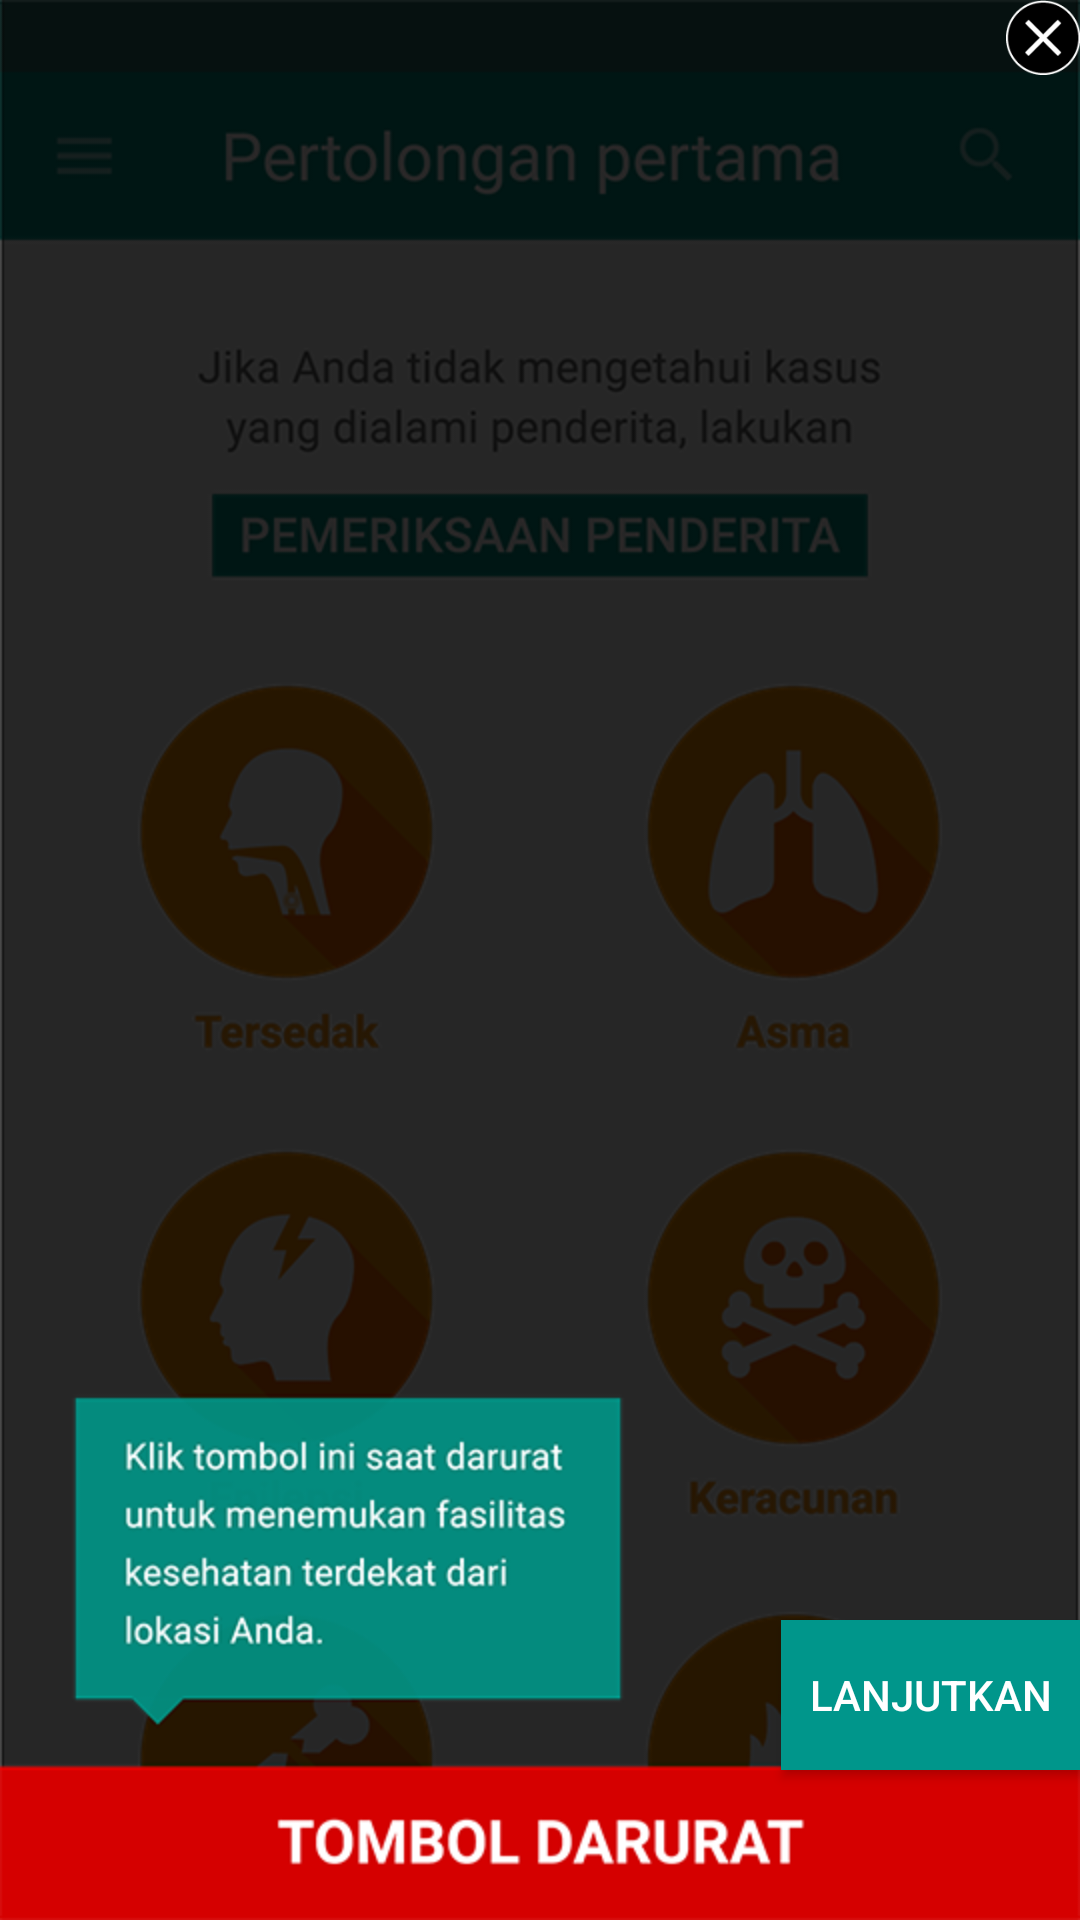

Icons on this 1080px x 1920px Android screen, each with the point to tap as (x=x, y=y):
close tutorial: (x=1043, y=37)
